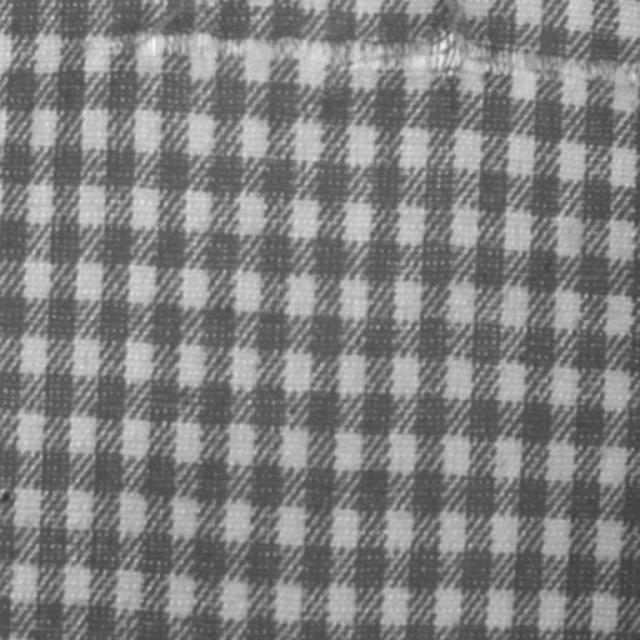Thread-Defect: (141, 27, 639, 85)
